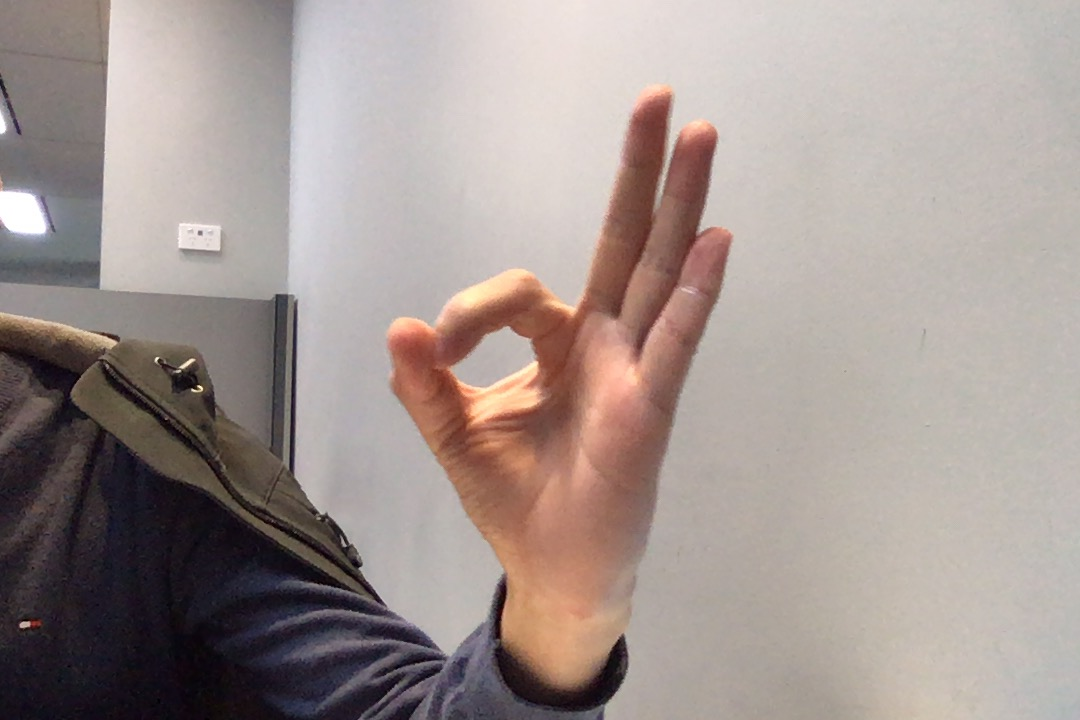oksign: (365, 75, 753, 592)
